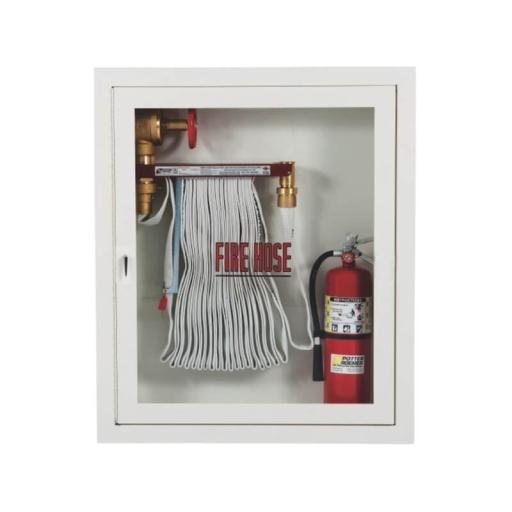fire_hose: (92, 63, 414, 444)
